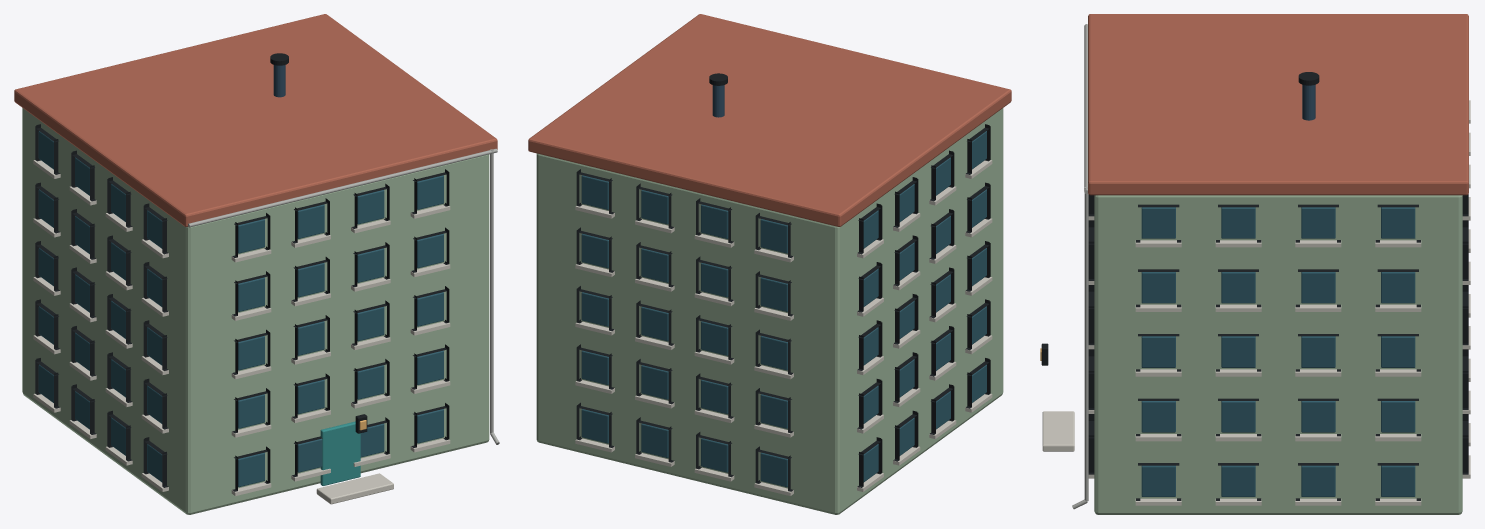
File: RES_MID_2x2_002.glb
3 renders of one model, left to right at view 1: azimuth 30°, elevation 25°; view 2: azimuth 150°, elevation 25°; view 3: azimuth 270°, elevation 25°, orthographic. The views are drawn at different scales.
Parts seen in each view (by area): view 1: RES_MID_2x2_002_Visual; view 2: RES_MID_2x2_002_Visual; view 3: RES_MID_2x2_002_Visual.
Boxes of the visible parts, <box> form: RES_MID_2x2_002_Visual: <box>14,14,499,514</box>; RES_MID_2x2_002_Visual: <box>528,14,1011,514</box>; RES_MID_2x2_002_Visual: <box>1040,14,1470,514</box>.
Size of what is drawn, in the model's own units: 3.28 by 3.4 by 3.51.
